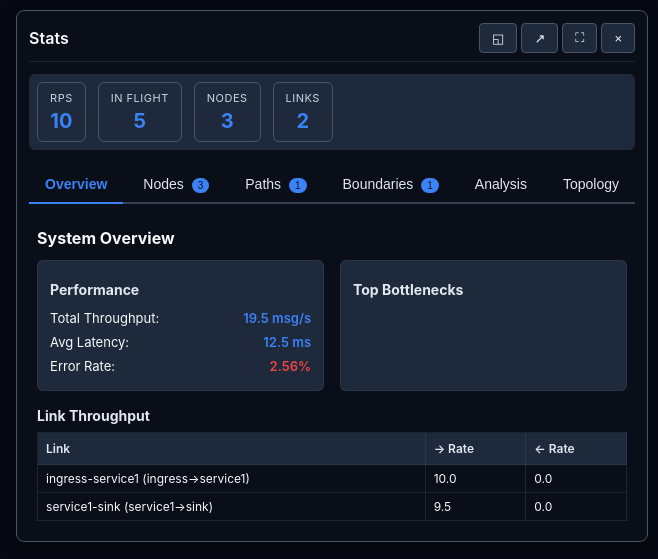
Test case: StatsOverlayEnhanced with Real Metrics › calculates utilization correctly based on capacity
This screenshot has width=658, height=559.
Click the button with class "stats-tab" showing "Nodes 3".
click(176, 184)  # box [127, 166, 225, 202]
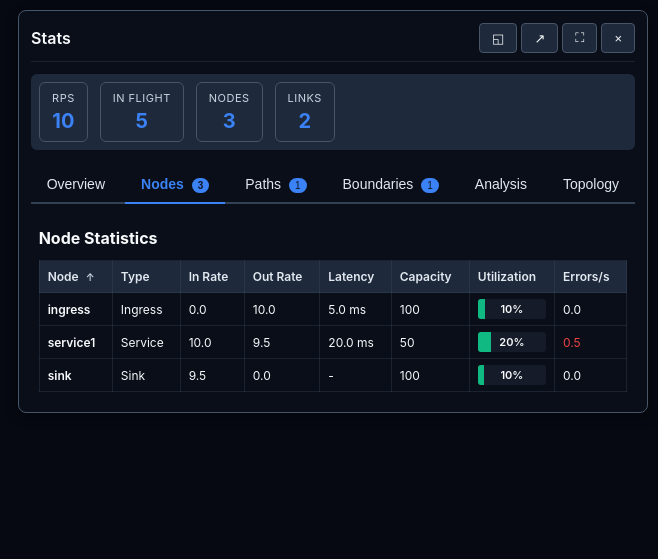
Expected: the row "service1 Service 10.0 9.5 20.0 ms 50 20% 0.5" is shown, [39, 326, 626, 358]
Expected: the text with class "utilization-text" reads "20%", [499, 335, 525, 349]
